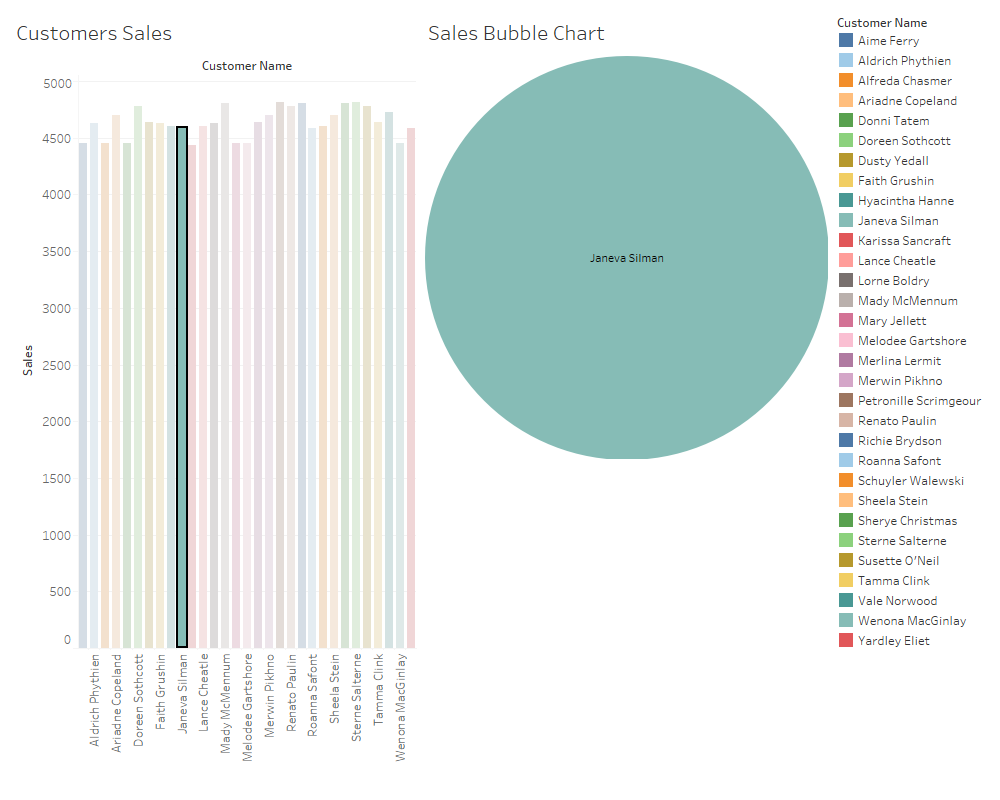

Layout of this report page (visuals, bound fields, positions):
{"tool":"tableau","page":{"name":"Dashboard 1","canvas":[1000,800],"ordinal":0},"visuals":[{"type":"worksheet","title":"Sheet 1","mark":"Automatic","rows":["Sales"],"cols":["Customer Name"],"box":[8,8,412,784]},{"type":"worksheet","title":"Sheet 3","mark":"Circle","box":[420,8,412,784]},{"type":"legend","title":"Sheet 1","param":"[federated.1ddzuif0ln65zk1by8qps0hh5z1w].[none:Customer Name:nk]","box":[832,8,160,646]},{"type":"text","box":[832,654,160,18]}]}

Visuals, with their boxes in screenshot pixels (x1, y1, x2, y2), scaled from the page's 1000x800 canvas onto the 1000x800 screenshot:
"Sheet 1" worksheet: <bbox>8, 8, 420, 792</bbox>
"Sheet 3" worksheet (Circle marks): <bbox>420, 8, 832, 792</bbox>
"Sheet 1" legend: <bbox>832, 8, 992, 654</bbox>
text: <bbox>832, 654, 992, 672</bbox>
